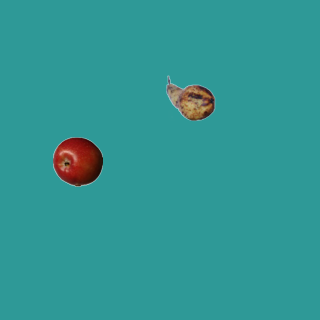Apple Braeburn: (52, 136, 102, 186)
Pear Abate: (165, 73, 215, 123)
